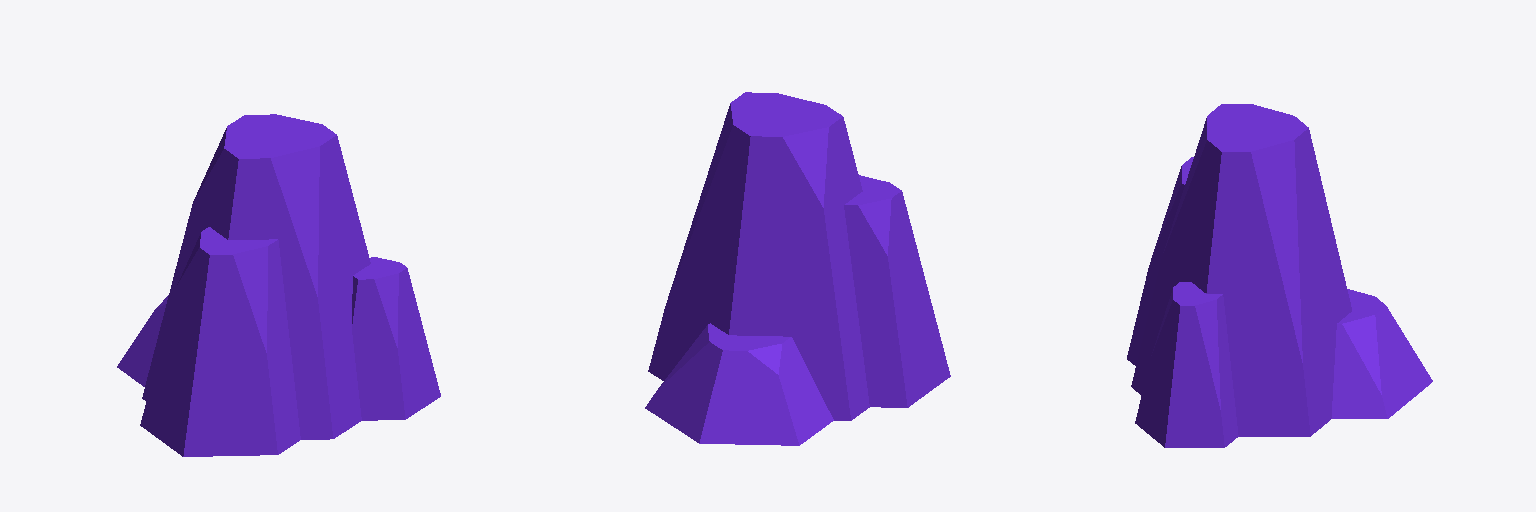
The model's file is gems_amethyst_original.obj.
3 views of the same model, side by side, from view 1: azimuth 30°, elevation 25°; view 2: azimuth 150°, elevation 25°; view 3: azimuth 270°, elevation 25° (orthographic).
Parts seen in each view (by area): view 1: mergedBlocks; view 2: mergedBlocks; view 3: mergedBlocks.
Boxes of the visible parts, x1,y1,x2,y2 form: mergedBlocks: [117, 114, 440, 456]; mergedBlocks: [645, 92, 950, 445]; mergedBlocks: [1127, 104, 1432, 447].
Size of the model in its own units: 0.9 by 0.8723 by 0.9353.